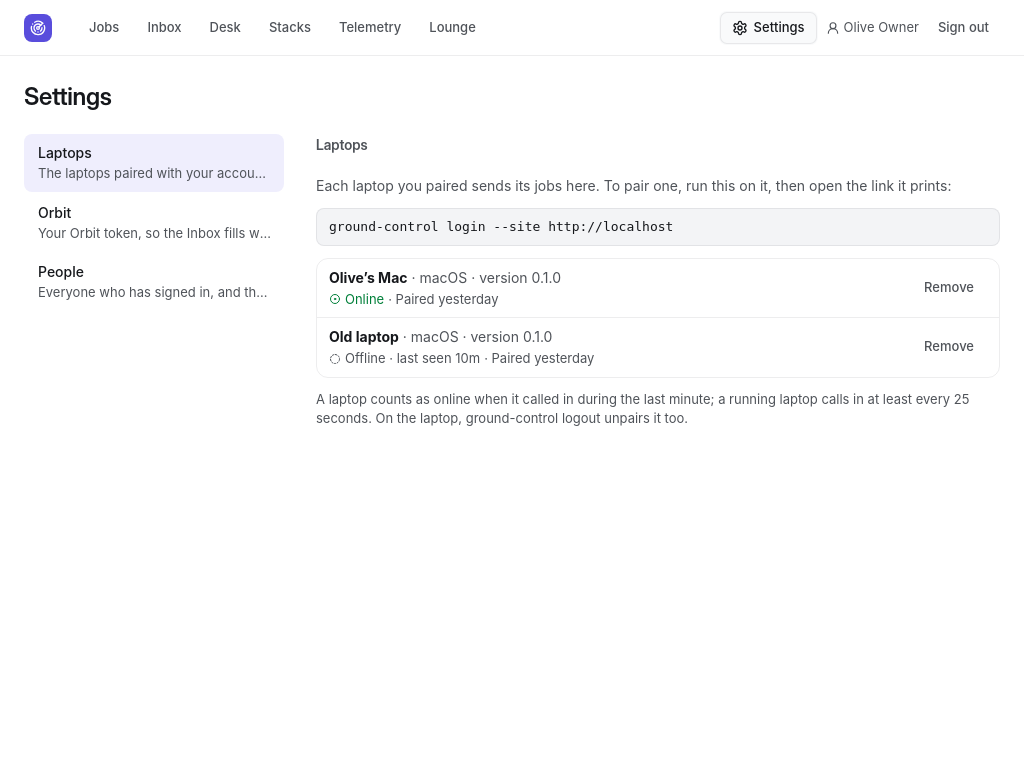
Test: the hosted site › Settings → Laptops: online or not in words; Remove asks once more, then removes
Check: the text "Offline · last seen 10m" is shown, box top-left (329, 349), bottom-right (480, 368)
Check: the text "Online" is shown, box top-left (329, 290), bottom-right (384, 309)
Step 1. Click the button with aria-label "Remove Old laptop" → x=949, y=347, box top-left (911, 330), bottom-right (987, 364)
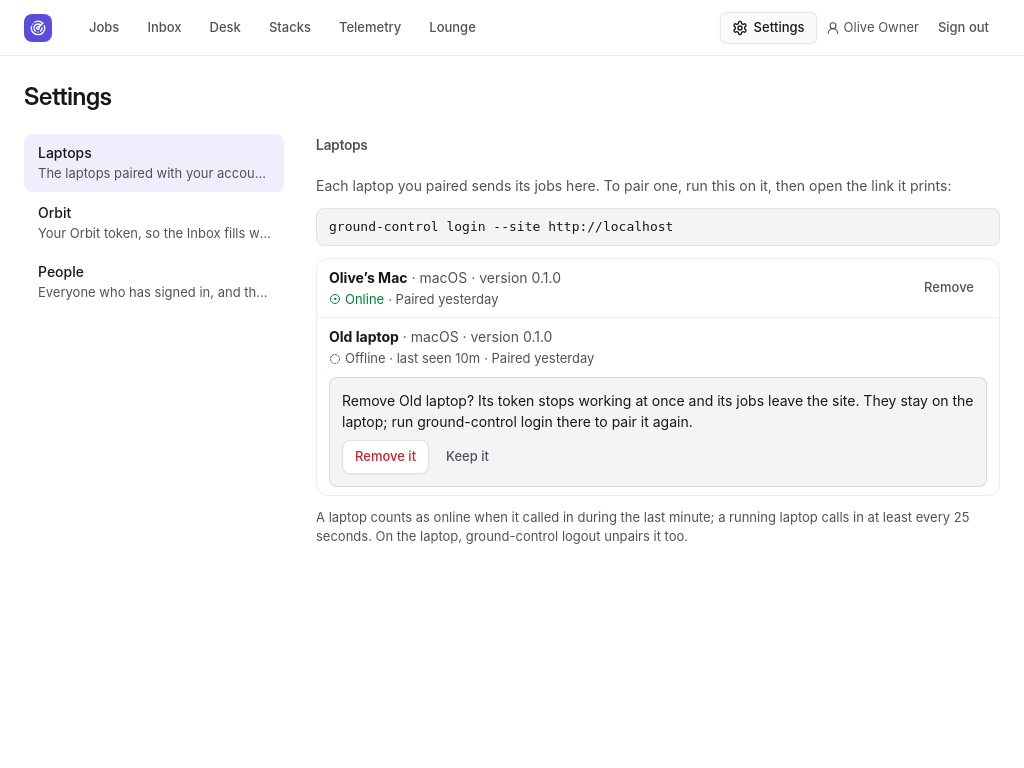
Check: the text "Its token stops working at once" is shown, box top-left (342, 392), bottom-right (974, 430)
Step 2. Click the button "Remove it" → x=386, y=456, box top-left (342, 440), bottom-right (429, 474)
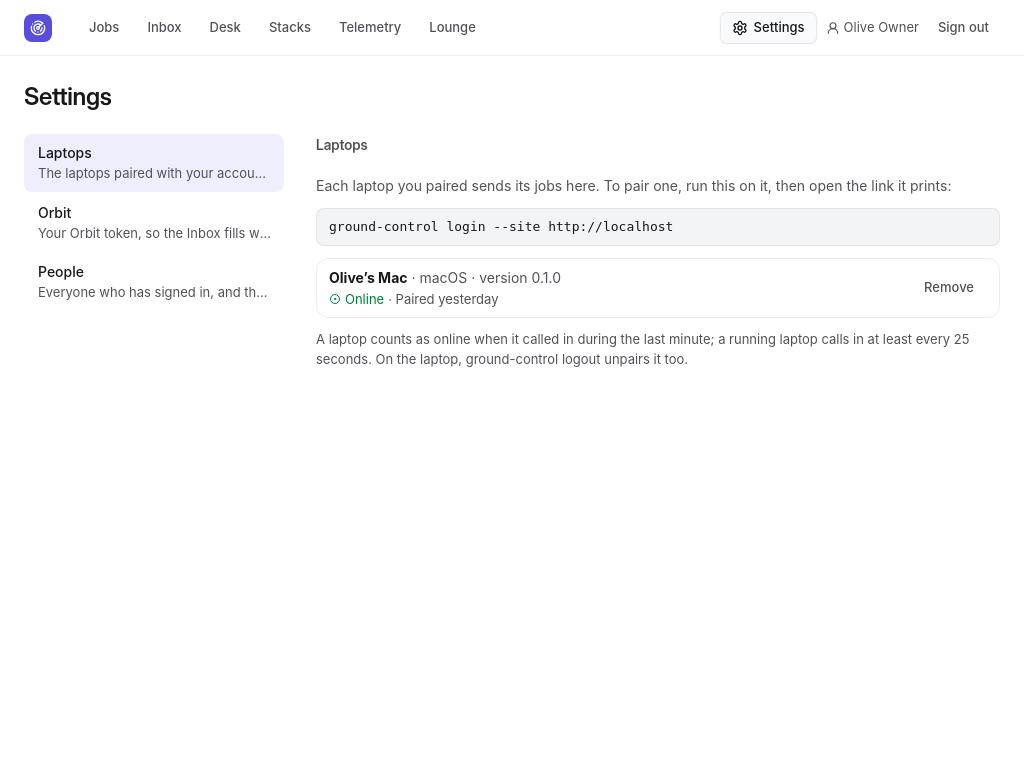
Check: the text "Old laptop" is gone
